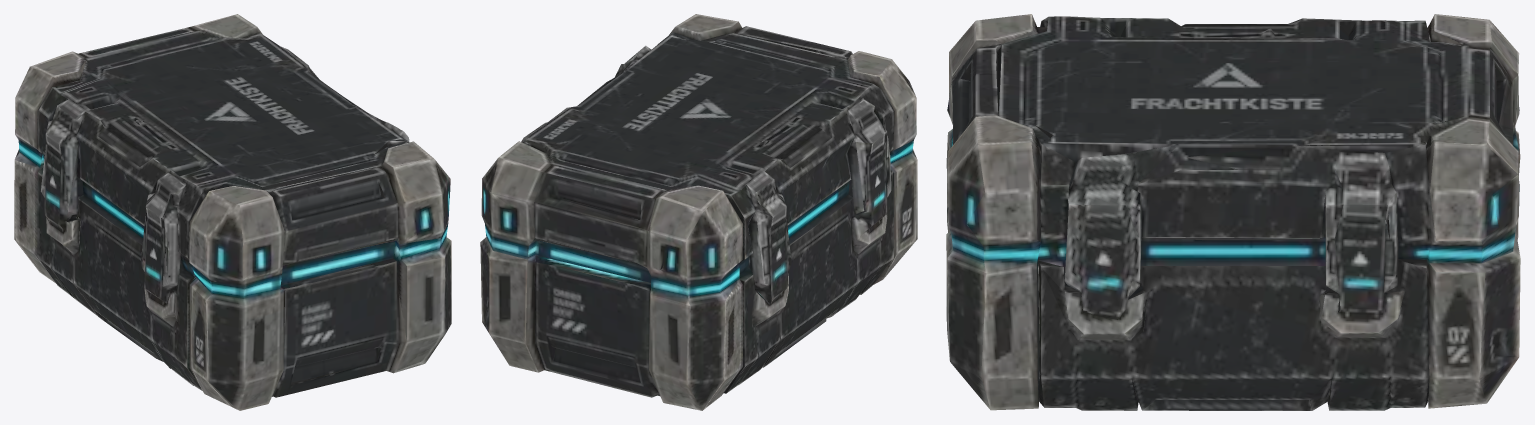
File: crate.glb
The picture shows the model from 3 angles, left to right: view 1: azimuth 30°, elevation 25°; view 2: azimuth 150°, elevation 25°; view 3: azimuth 270°, elevation 25°; orthographic projection. The views are drawn at different scales.
Visible parts, largest first — view 1: crate; view 2: crate; view 3: crate.
Boxes of the visible parts, bbox=[...] form: crate: bbox=[14, 14, 451, 410]; crate: bbox=[480, 14, 917, 410]; crate: bbox=[946, 14, 1520, 410].
Size of the model in its own units: 9.25 by 7.1 by 13.6.
Materials: 1 (1 with a texture image).
